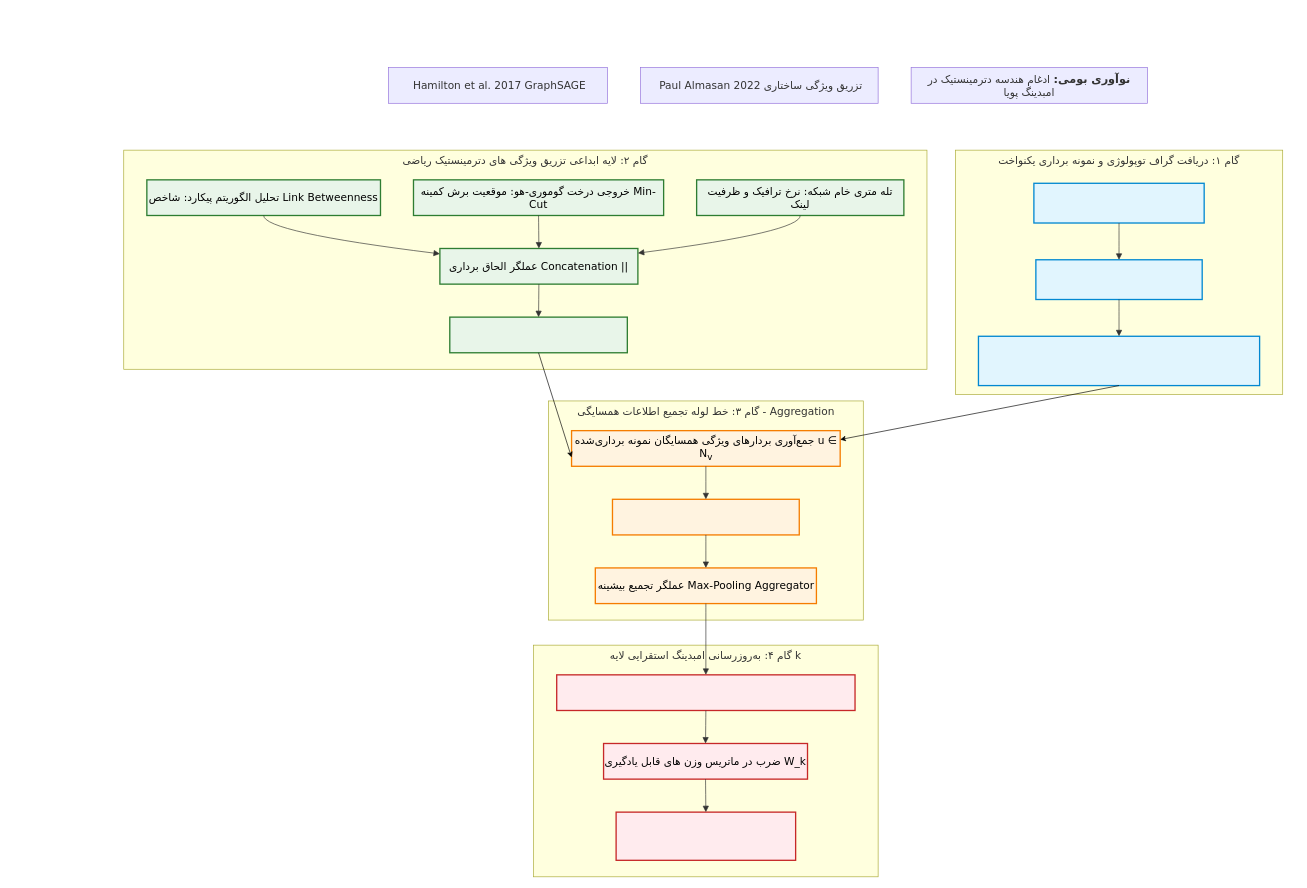
The diagram is 1307 pixels wide and 888 high, and some of its shapes have lost their labels. Each missing label, with the centre of its shape:
الحاق برداری امبدینگ قبلی گره هدف h v ^k-1 با بردار تجمیع همسایگان: point (705, 692)
انتخاب گره هدف Target Node v: point (1119, 279)
بردارهای امبدینگ متراکم کم‌ بعد h v ^k خوراک ورودی عامل DRL PPO: point (705, 836)
توابع لایه پیش‌رو MLP + فعال‌ساز ReLU: point (705, 516)
ماتریس ویژگی‌های غنی‌ شده گره‌ها X u: point (538, 334)
نمونه‌ برداری تصادفی یکنواخت با اندازه ثابت S k از همسایگان N v: point (1118, 360)
گراف پویای شبکه همراه اول G=V,E: point (1118, 202)
